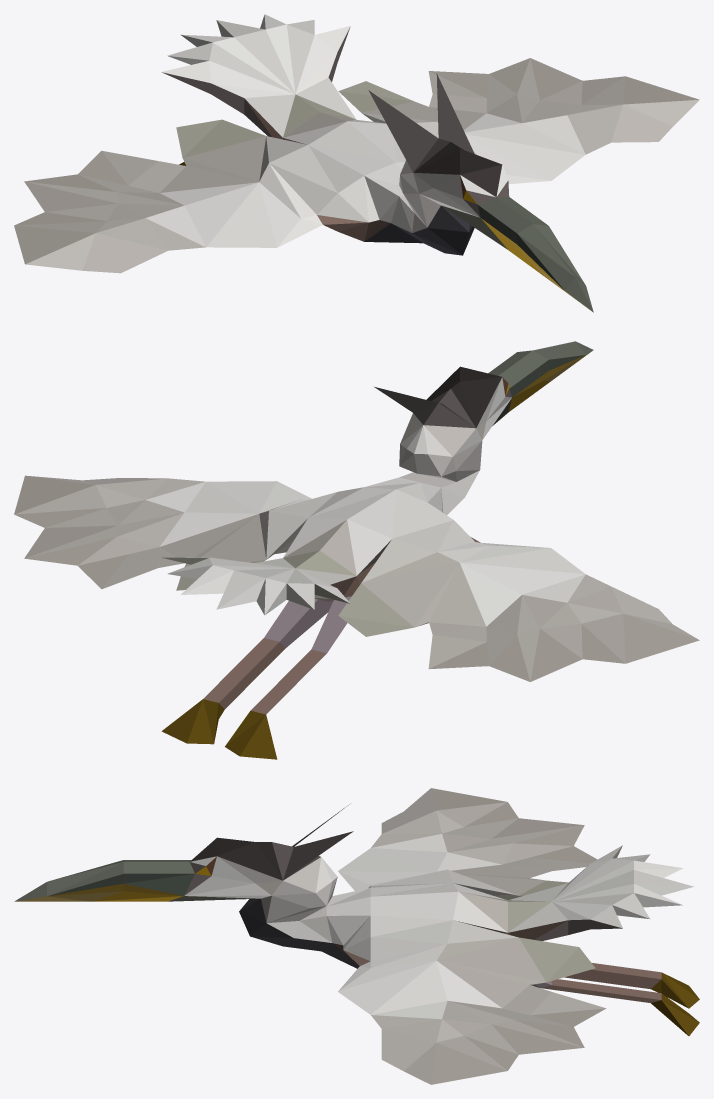
The picture shows the model from 3 angles, top to bottom: view 1: azimuth 30°, elevation 25°; view 2: azimuth 150°, elevation 25°; view 3: azimuth 270°, elevation 25°; orthographic projection. The views are drawn at different scales.
Bounding box in the file's own units: 128 × 39 × 125.
1 material, 1 textured.
